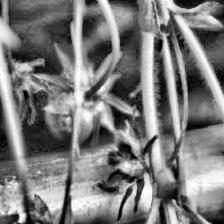Gray Mold: (97, 108, 160, 222), (0, 44, 54, 125)
